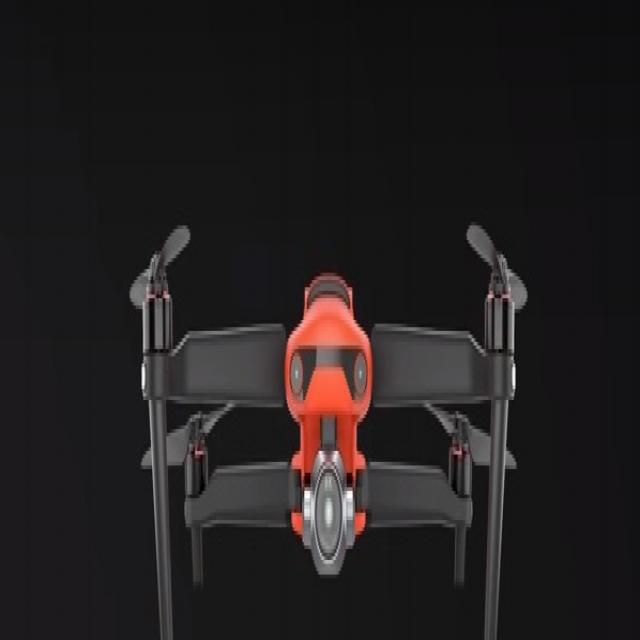drone: (98, 120, 554, 640)
